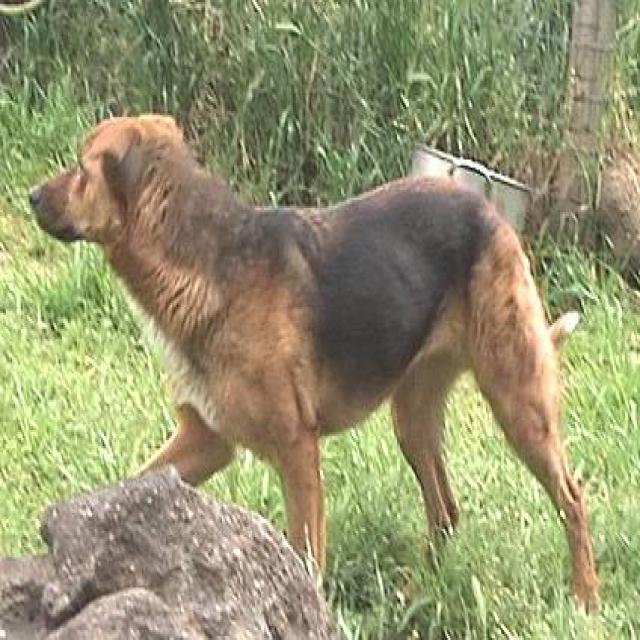dog: (27, 109, 602, 618)
